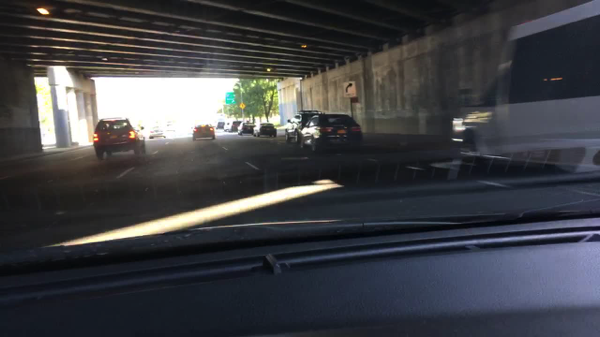car: (297, 114, 362, 152), (92, 117, 147, 158), (284, 110, 323, 143), (191, 123, 215, 140), (253, 122, 277, 137), (237, 121, 255, 136), (150, 126, 166, 138), (232, 120, 241, 132), (215, 122, 224, 129), (224, 122, 230, 132)
traffic sign: (342, 81, 356, 97), (224, 92, 236, 105), (239, 102, 245, 110)
truck: (452, 0, 599, 169)
